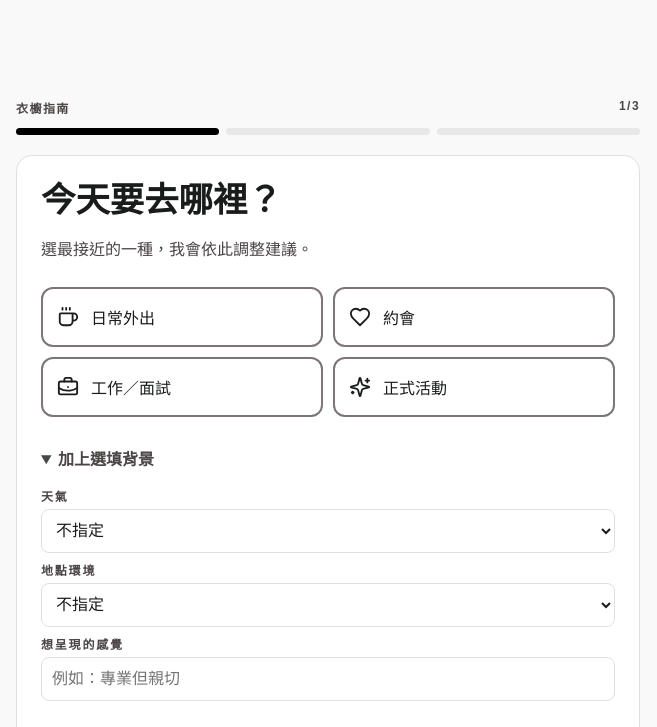
Scenario: outfit flow › requires an explicit next action after selecting an occasion
The width and height of the screenshot is (657, 727).
Step 1. Click the button "日常外出" → (123, 318), box [41, 287, 323, 347]
(page scrolled)
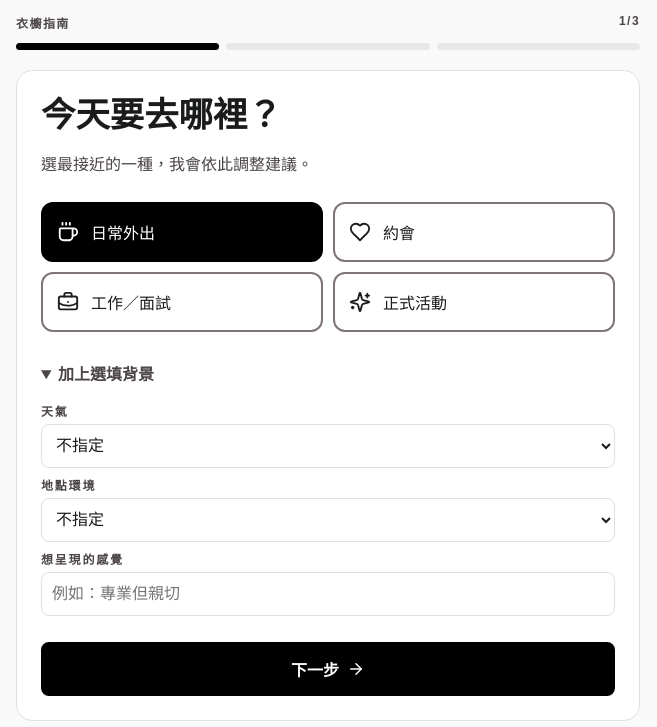
Expected: the heading "今天要去哪裡？" is shown, [41, 96, 282, 134]
Result: the button "下一步" is enabled
Step 2. Click the button "下一步" → (328, 669), box [41, 642, 615, 696]
(page scrolled)
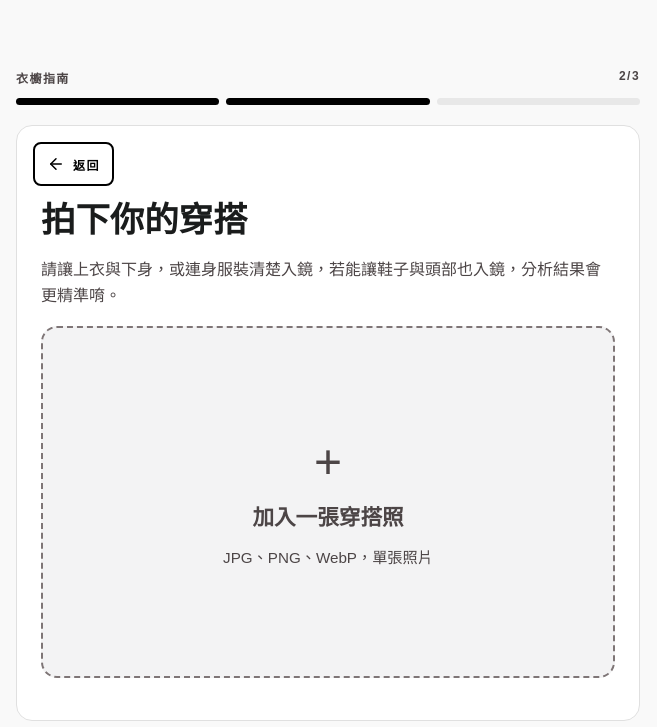
Result: the heading "拍下你的穿搭" is shown at [41, 201, 247, 239]
